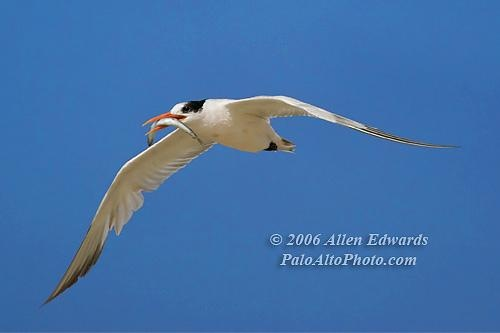bird: (30, 95, 463, 307)
